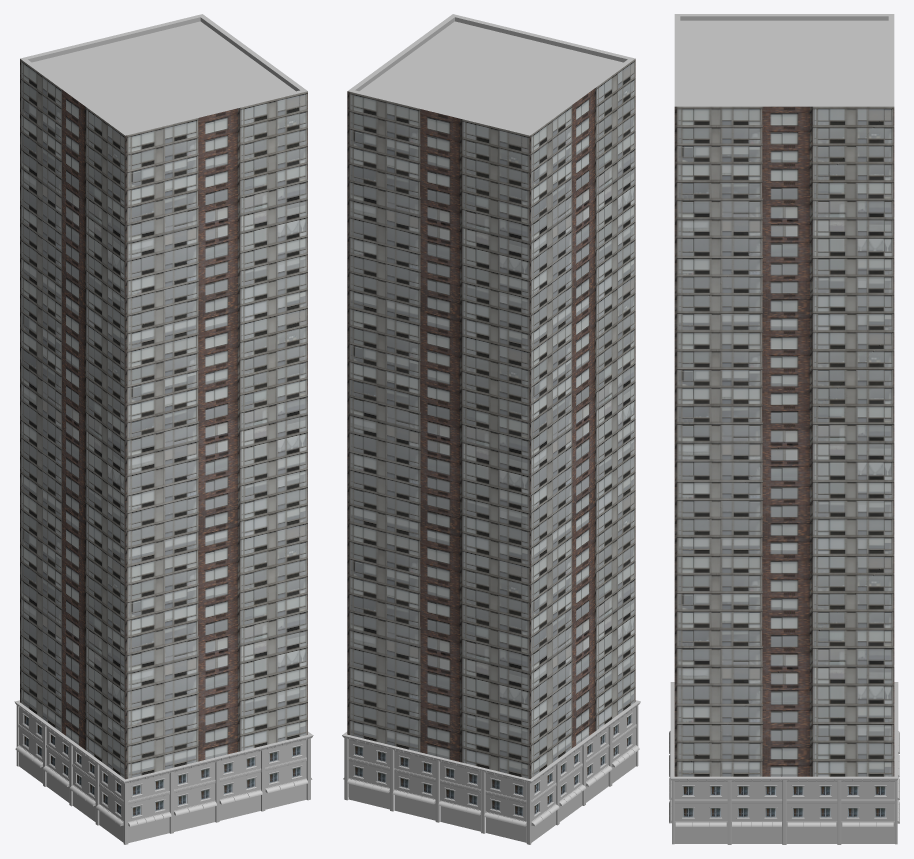
The model's file is High RIse Building 48.fbx.
The picture shows the model from 3 angles, left to right: view 1: azimuth 30°, elevation 25°; view 2: azimuth 150°, elevation 25°; view 3: azimuth 270°, elevation 25°; orthographic projection. The views are drawn at different scales.
Parts seen in each view (by area): view 1: Top, Part_2, Part_1, Base; view 2: Top, Part_2, Part_1, Base; view 3: Top, Part_2, Part_1, Base.
Boxes of the visible parts, box(x1,y1,x2,y2) form: Top: box(20, 14, 307, 350); Part_2: box(20, 274, 307, 565); Part_1: box(20, 489, 307, 779); Base: box(14, 700, 313, 844); Top: box(347, 14, 635, 350); Part_2: box(347, 273, 635, 565); Part_1: box(347, 488, 635, 778); Base: box(342, 700, 640, 844); Top: box(674, 14, 894, 330); Part_2: box(674, 330, 894, 554); Part_1: box(674, 554, 894, 776); Base: box(669, 682, 899, 844).
Size of the model in its own units: 3363 by 11850 by 3365.
